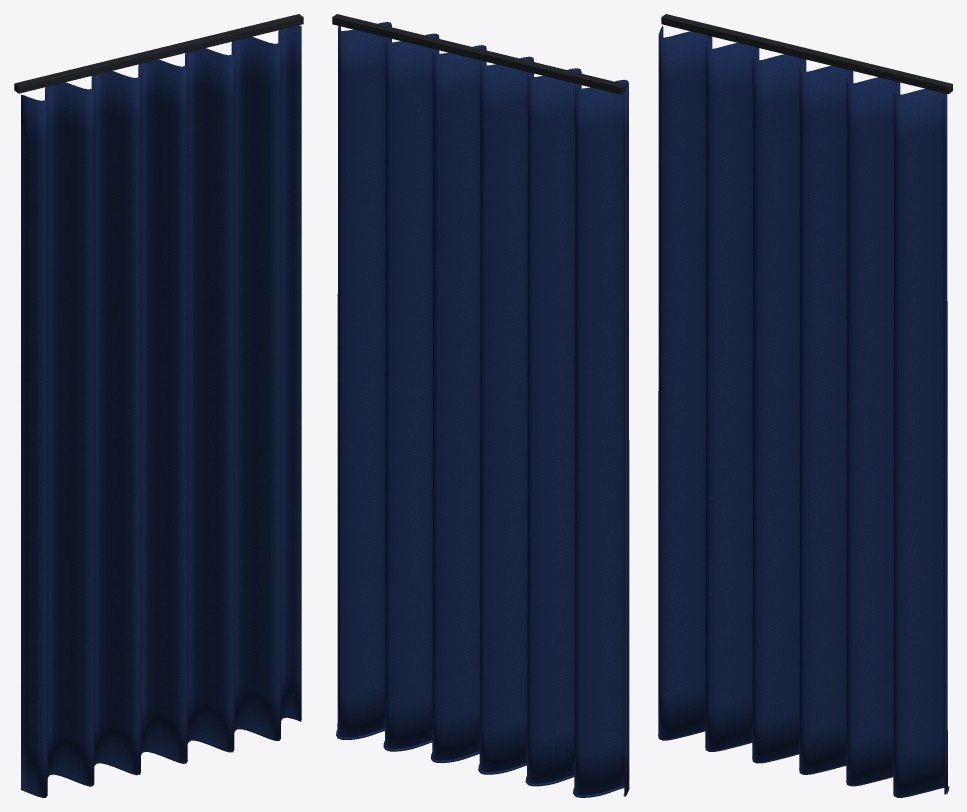
File: 27_curtain_right.glb
3 renders of one model, left to right at view 1: azimuth 30°, elevation 25°; view 2: azimuth 150°, elevation 25°; view 3: azimuth 330°, elevation 25°, orthographic.
Visible parts, largest first — view 1: 27_curtain_right__folded_fabric, 27_curtain_right__top_hanging_rail, 27_curtain_right__bottom_hem; view 2: 27_curtain_right__folded_fabric, 27_curtain_right__top_hanging_rail, 27_curtain_right__bottom_hem; view 3: 27_curtain_right__folded_fabric, 27_curtain_right__top_hanging_rail, 27_curtain_right__bottom_hem.
Boxes of the visible parts, x1=… form: 27_curtain_right__folded_fabric: x1=21, y1=25, x2=301, y2=796; 27_curtain_right__top_hanging_rail: x1=14, y1=14, x2=303, y2=93; 27_curtain_right__bottom_hem: x1=21, y1=716, x2=300, y2=797; 27_curtain_right__folded_fabric: x1=337, y1=22, x2=629, y2=796; 27_curtain_right__top_hanging_rail: x1=332, y1=14, x2=625, y2=94; 27_curtain_right__bottom_hem: x1=336, y1=728, x2=629, y2=797; 27_curtain_right__folded_fabric: x1=658, y1=26, x2=947, y2=796; 27_curtain_right__top_hanging_rail: x1=661, y1=14, x2=952, y2=94; 27_curtain_right__bottom_hem: x1=658, y1=730, x2=949, y2=797.
Size of the model in its own units: 1.63 by 3.86 by 0.228.
2 materials, 2 textured.
